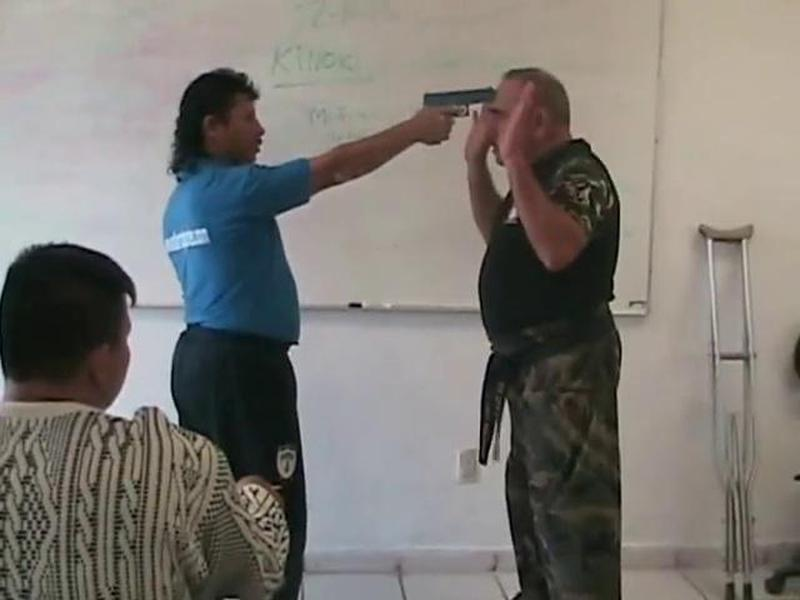Pistola: (406, 78, 512, 162)
